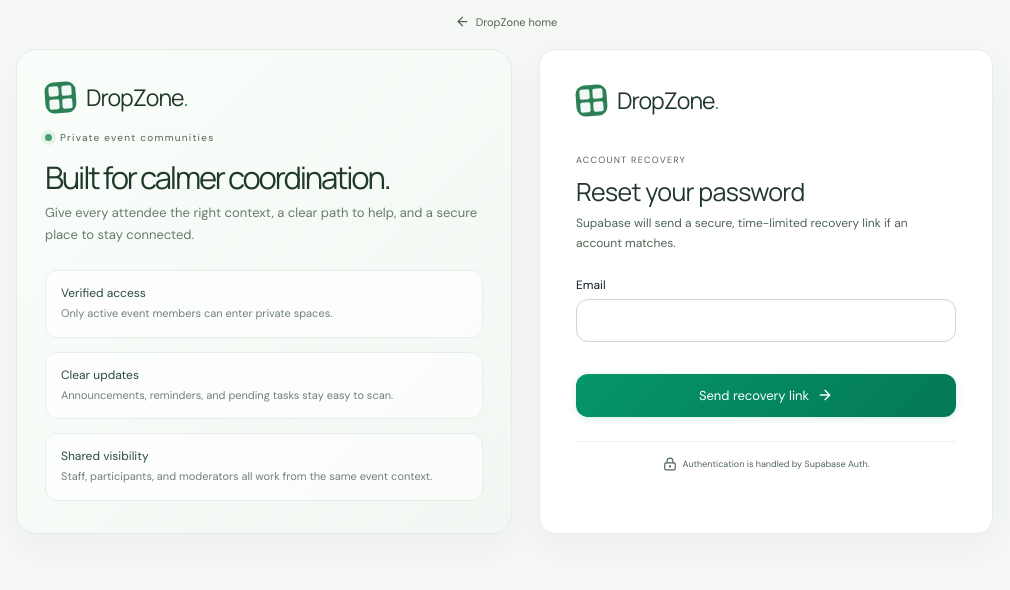
Supabase authentication lifecycle › requests password recovery through Supabase Auth
Type "member@example.test" into the field labelled "Email". click: [766, 320]
box: 576,299 -> 956,342
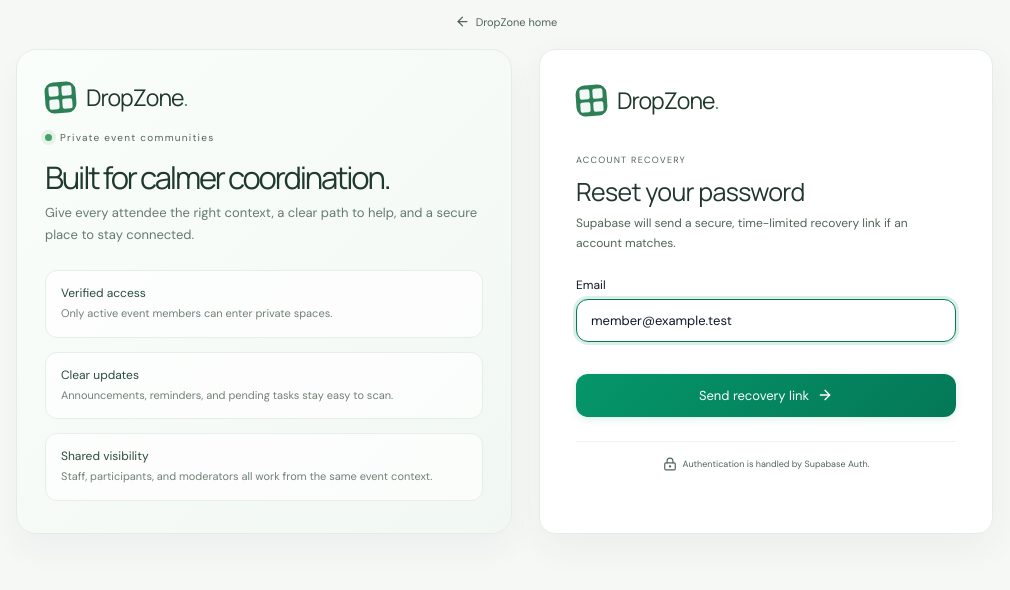
Click the button "Send recovery link". click: [766, 395]
box: 576,374 -> 956,417
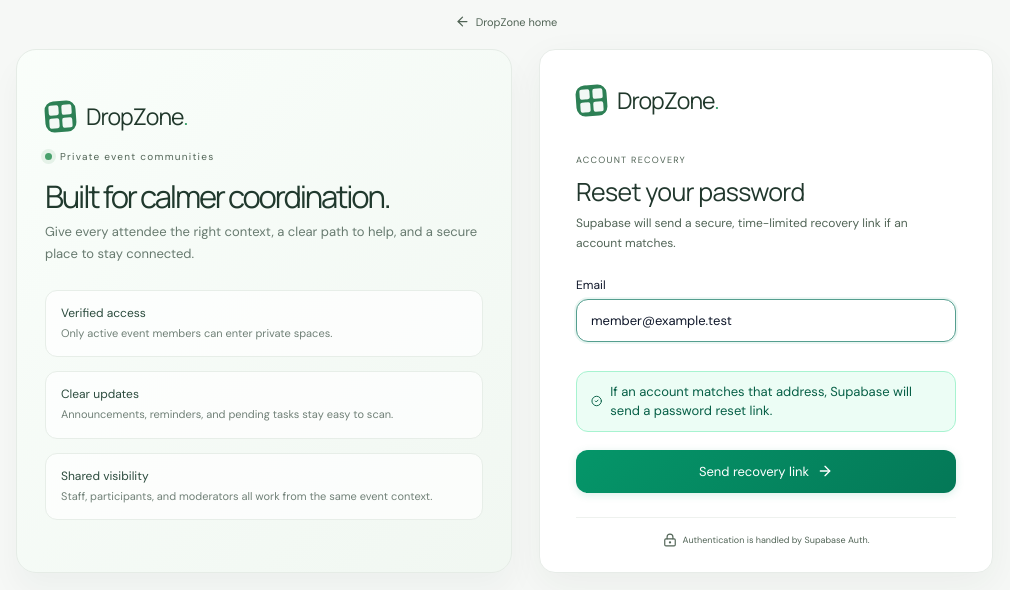
Expected: the text "If an account matches that address, Supabase will send a password reset link." is shown, 576,371 -> 956,432
